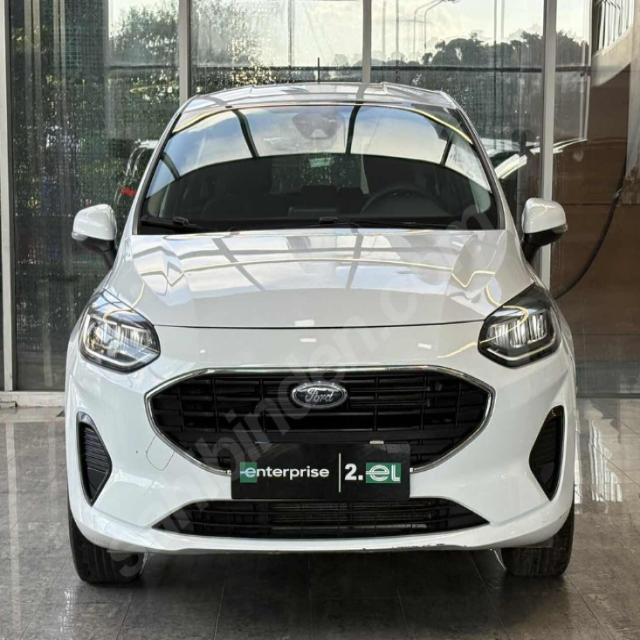ford: (289, 377, 351, 412)
